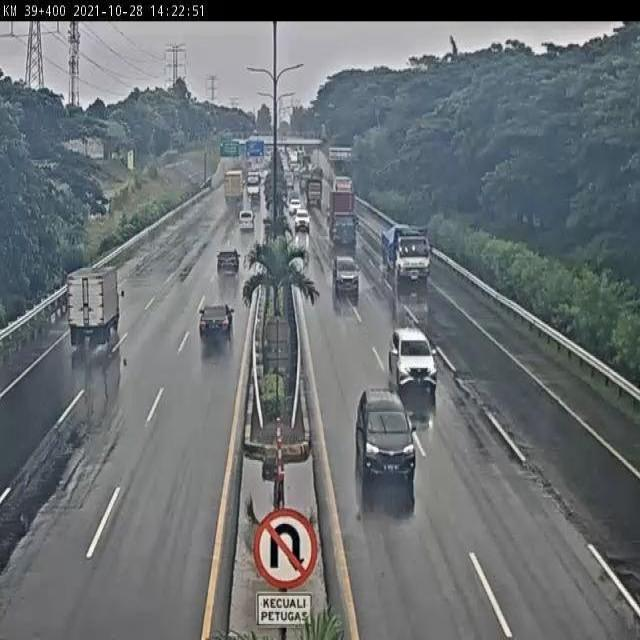Bus: (245, 171, 262, 202)
Car: (329, 253, 362, 299), (200, 305, 234, 344), (216, 246, 242, 276), (294, 206, 312, 237), (238, 209, 256, 231)
Truck: (64, 263, 123, 351), (378, 221, 434, 285), (331, 185, 358, 245), (223, 166, 245, 208), (306, 172, 322, 206)
